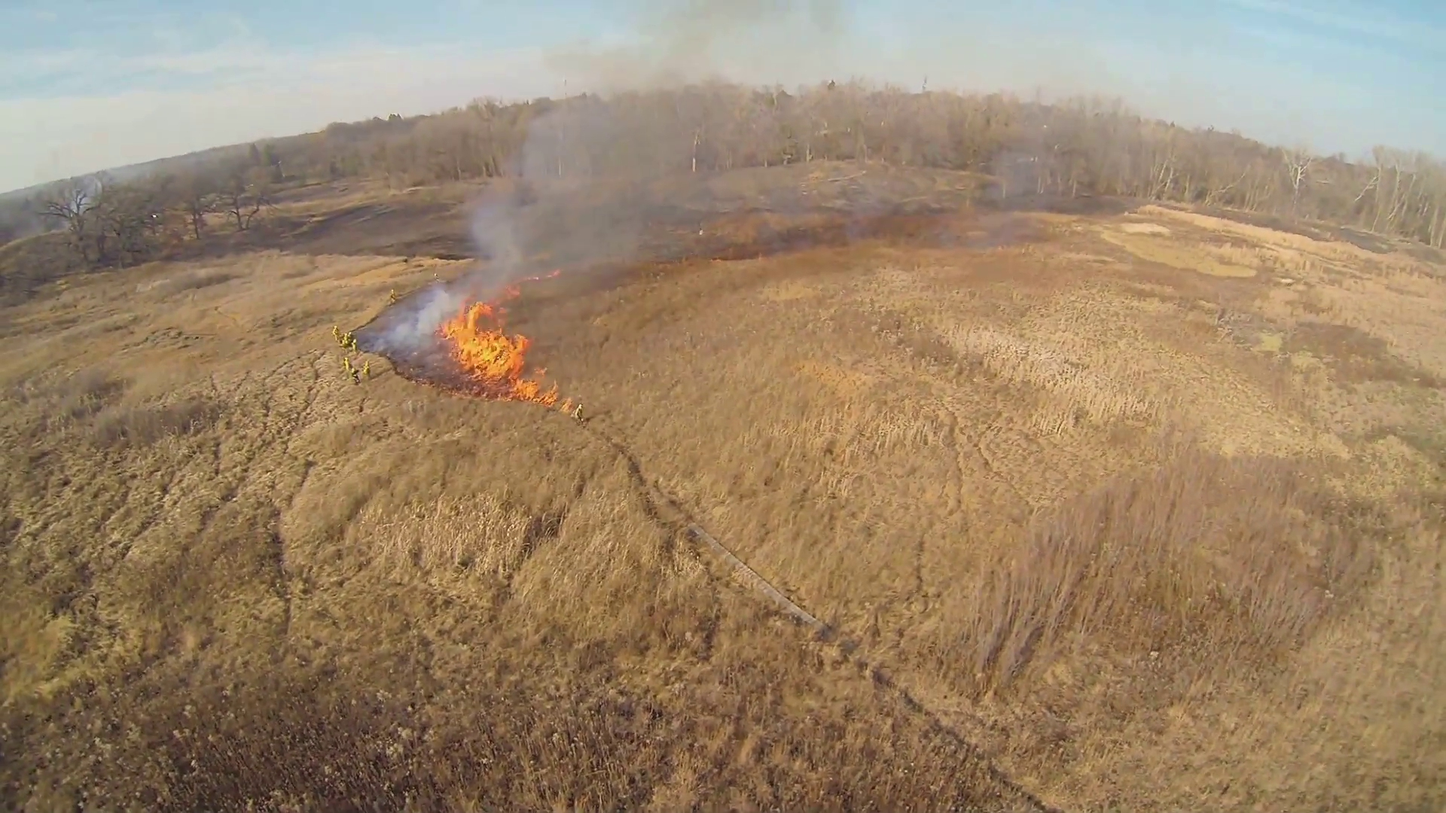forest_fire: (438, 287, 557, 405)
